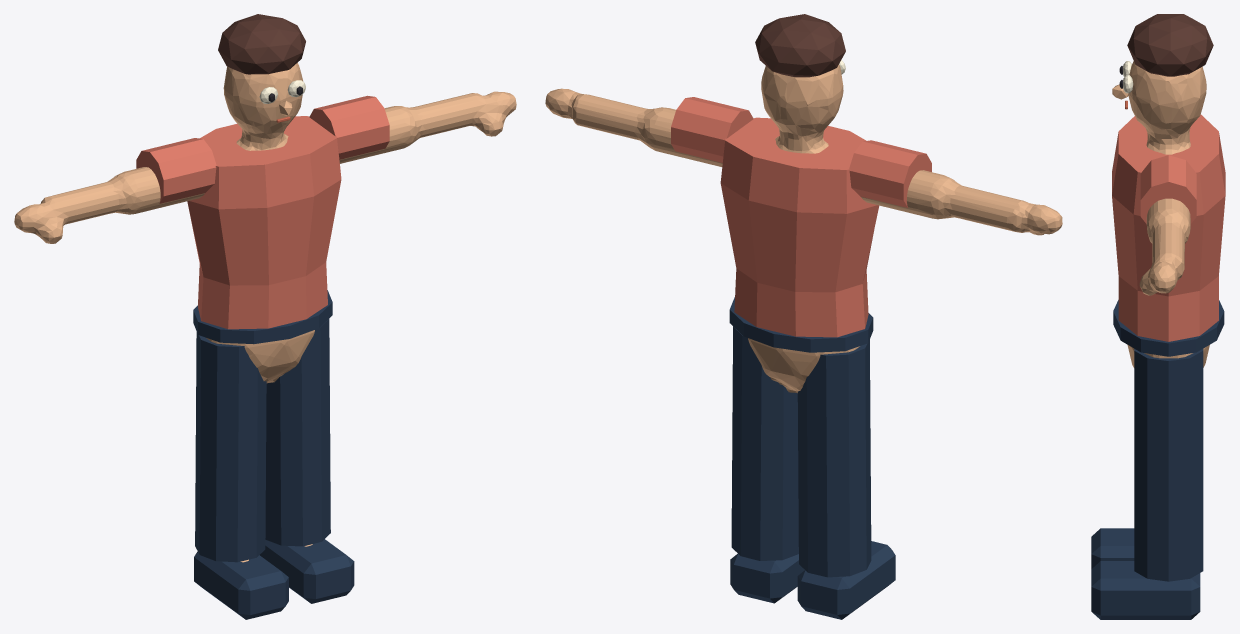
The model's file is Civilian_06.fbx.
The picture shows the model from 3 angles, left to right: view 1: azimuth 30°, elevation 25°; view 2: azimuth 150°, elevation 25°; view 3: azimuth 270°, elevation 25°; orthographic projection. The views are drawn at different scales.
Parts seen in each view (by area): view 1: Shirt.005, Civilian_06_Base_BaseFemale_TPose_Body, PantsLeg.010, PantsLeg.011, Shoe.010, HairCap.005, Shoe.011, Sleeve.010, Sleeve.011, Belt.005; view 2: Shirt.005, Civilian_06_Base_BaseFemale_TPose_Body, PantsLeg.010, PantsLeg.011, HairCap.005, Shoe.010, Sleeve.010, Sleeve.011, Shoe.011, Belt.005; view 3: PantsLeg.011, Shirt.005, Civilian_06_Base_BaseFemale_TPose_Body, Shoe.011, HairCap.005, Sleeve.011, Belt.005, Shoe.010.
Boxes of the visible parts, x1,y1,x2,y2 form: Shirt.005: [187, 116, 341, 329]; Civilian_06_Base_BaseFemale_TPose_Body: [14, 62, 516, 562]; PantsLeg.010: [195, 332, 266, 562]; PantsLeg.011: [265, 319, 330, 546]; Shoe.010: [194, 551, 288, 619]; HairCap.005: [218, 14, 305, 74]; Shoe.011: [260, 539, 354, 603]; Sleeve.010: [136, 138, 216, 203]; Sleeve.011: [309, 95, 389, 159]; Belt.005: [193, 290, 332, 344]; Shirt.005: [720, 117, 879, 337]; Civilian_06_Base_BaseFemale_TPose_Body: [545, 64, 1062, 393]; PantsLeg.010: [797, 339, 871, 577]; PantsLeg.011: [731, 326, 798, 560]; HairCap.005: [755, 14, 845, 77]; Shoe.010: [797, 541, 895, 619]; Sleeve.010: [849, 140, 931, 207]; Sleeve.011: [671, 97, 753, 162]; Shoe.011: [730, 553, 804, 603]; Belt.005: [729, 297, 873, 352]; PantsLeg.011: [1134, 349, 1203, 581]; Shirt.005: [1112, 114, 1225, 341]; Civilian_06_Base_BaseFemale_TPose_Body: [1127, 61, 1209, 367]; Shoe.011: [1091, 561, 1200, 619]; HairCap.005: [1127, 14, 1213, 76]; Sleeve.011: [1140, 155, 1196, 223]; Belt.005: [1113, 300, 1224, 356]; Shoe.010: [1091, 528, 1134, 568].
Bounding box in the file's own units: 1.61 × 1.75 × 0.3664.
